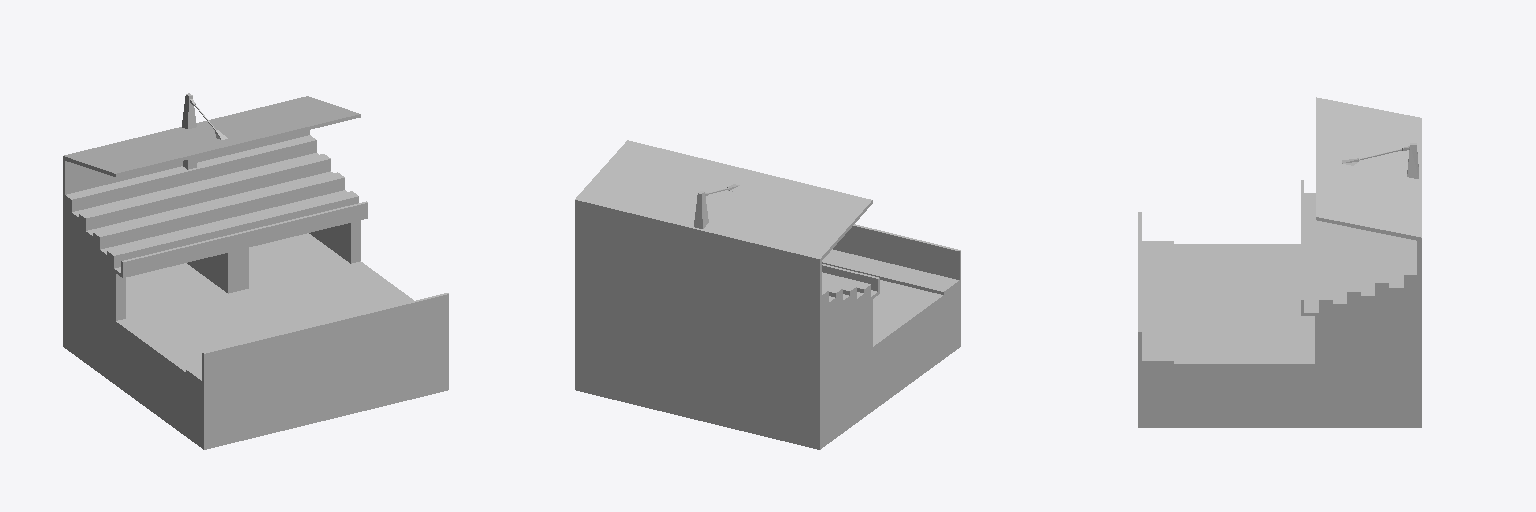
File: building-pitlane.obj
The picture shows the model from 3 angles: view 1: azimuth 30°, elevation 25°; view 2: azimuth 150°, elevation 25°; view 3: azimuth 270°, elevation 25°; orthographic projection.
Parts seen in each view (by area): view 1: building-pitlane_Cube.048; view 2: building-pitlane_Cube.048; view 3: building-pitlane_Cube.048.
Boxes of the visible parts, <box> form: building-pitlane_Cube.048: <box>63,93,448,449</box>; building-pitlane_Cube.048: <box>575,140,960,449</box>; building-pitlane_Cube.048: <box>1138,97,1421,427</box>.
Bounding box in the file's own units: 8 × 7 × 8.